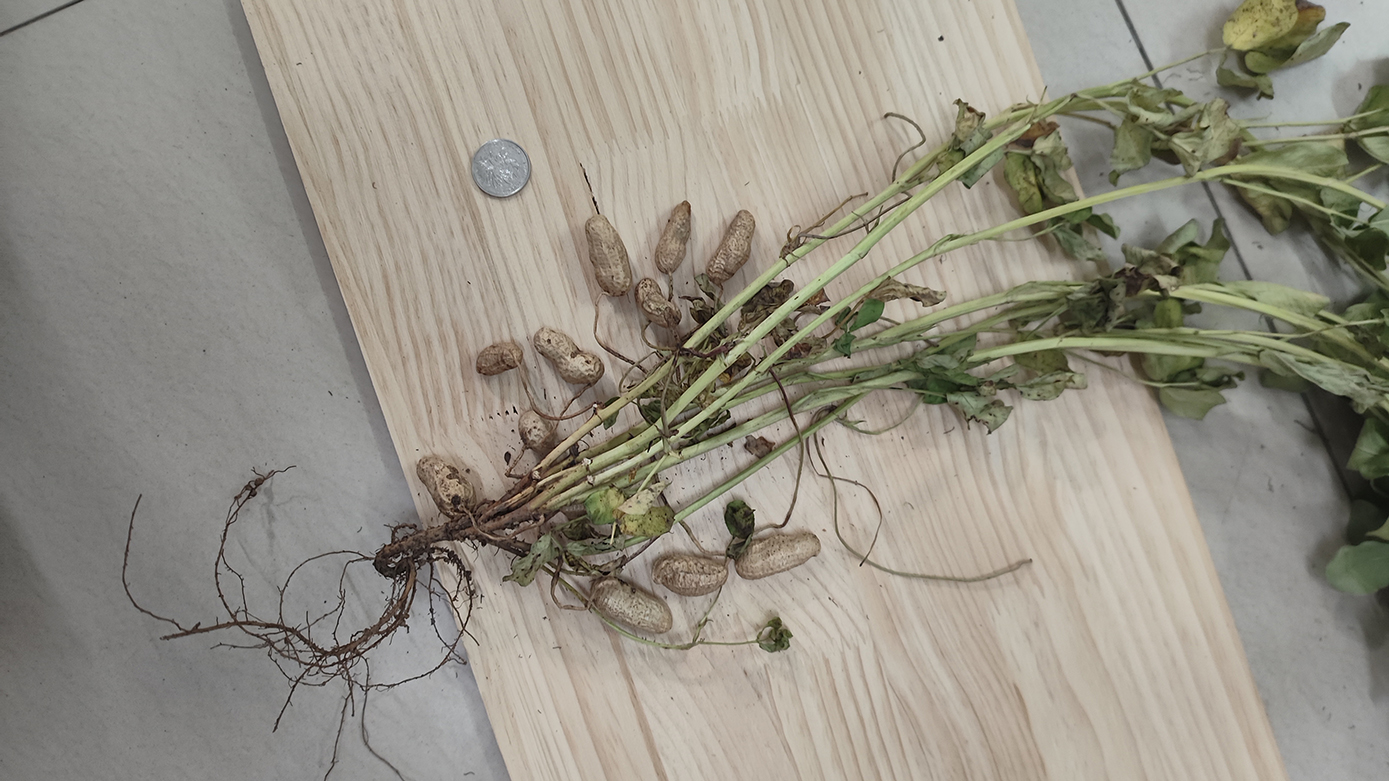h: (589, 578, 673, 634), (532, 324, 604, 384), (734, 531, 821, 580), (584, 214, 633, 296), (704, 208, 755, 283), (418, 455, 474, 519), (653, 553, 729, 596), (653, 200, 692, 274), (633, 276, 683, 327), (474, 342, 522, 377), (517, 408, 554, 449)
